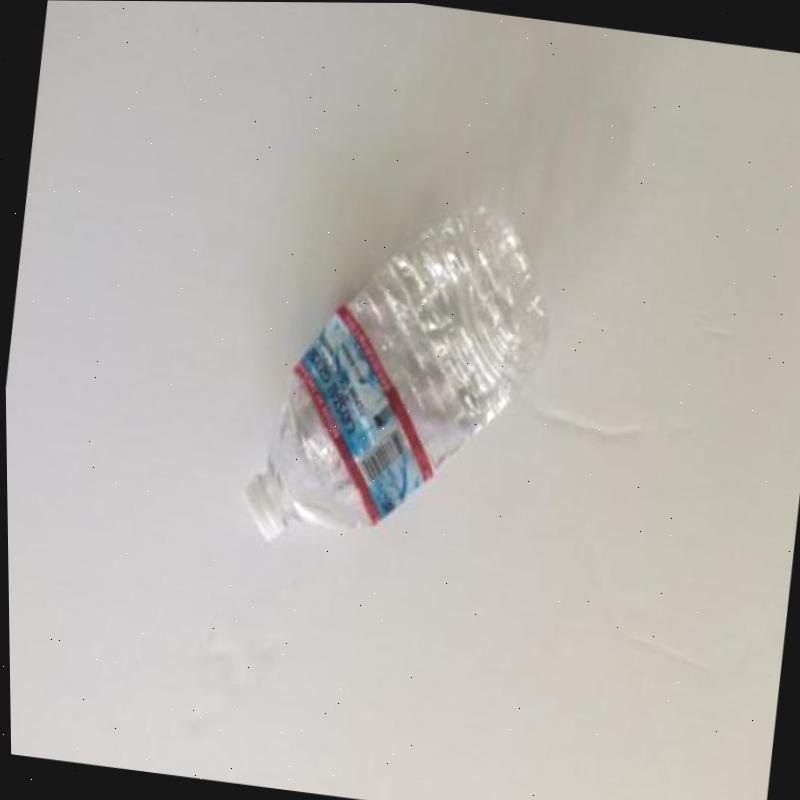botella: (236, 177, 565, 580)
